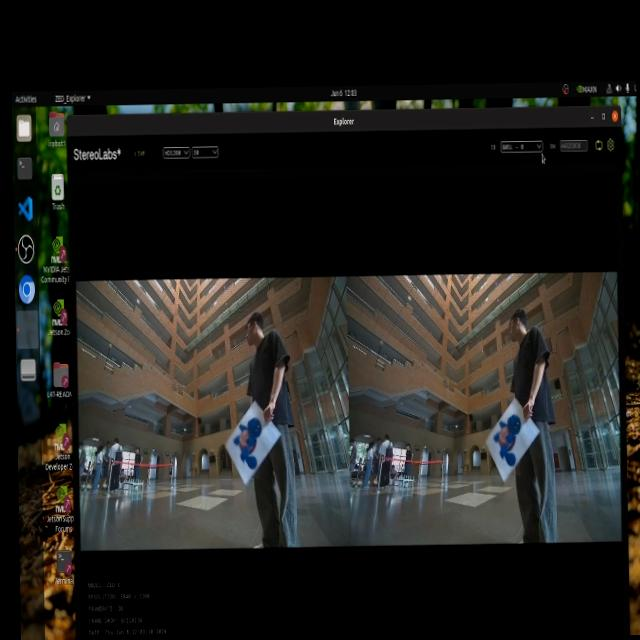blue: (229, 412, 273, 480), (492, 403, 528, 468)
